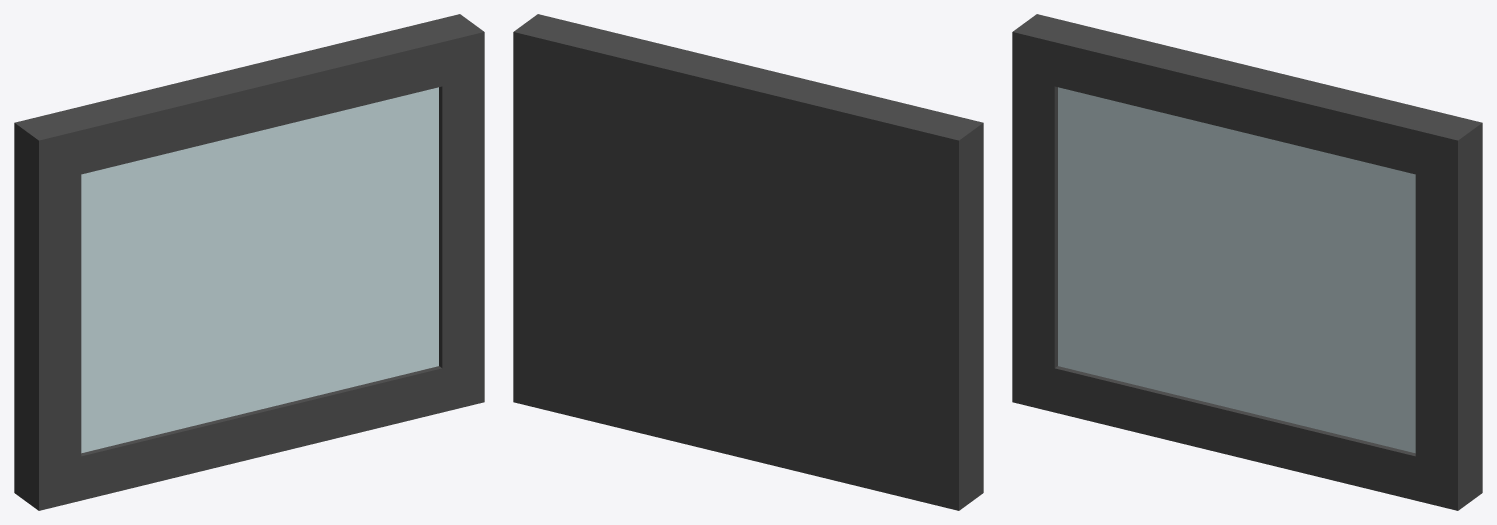
Rendered from Itr_Obj_Laptop_Screen_on_05.FBX.
The picture shows the model from 3 angles, left to right: view 1: azimuth 30°, elevation 25°; view 2: azimuth 150°, elevation 25°; view 3: azimuth 330°, elevation 25°; orthographic projection.
Visible parts, largest first — view 1: Itr_Obj_Laptop_Screen_on_05; view 2: Itr_Obj_Laptop_Screen_on_05; view 3: Itr_Obj_Laptop_Screen_on_05.
Boxes of the visible parts, x1,y1,x2,y2 form: Itr_Obj_Laptop_Screen_on_05: (14,14,484,510); Itr_Obj_Laptop_Screen_on_05: (513,14,983,510); Itr_Obj_Laptop_Screen_on_05: (1012,14,1482,510).
Bounding box in the file's own units: 29.1 × 23.12 × 2.77.
